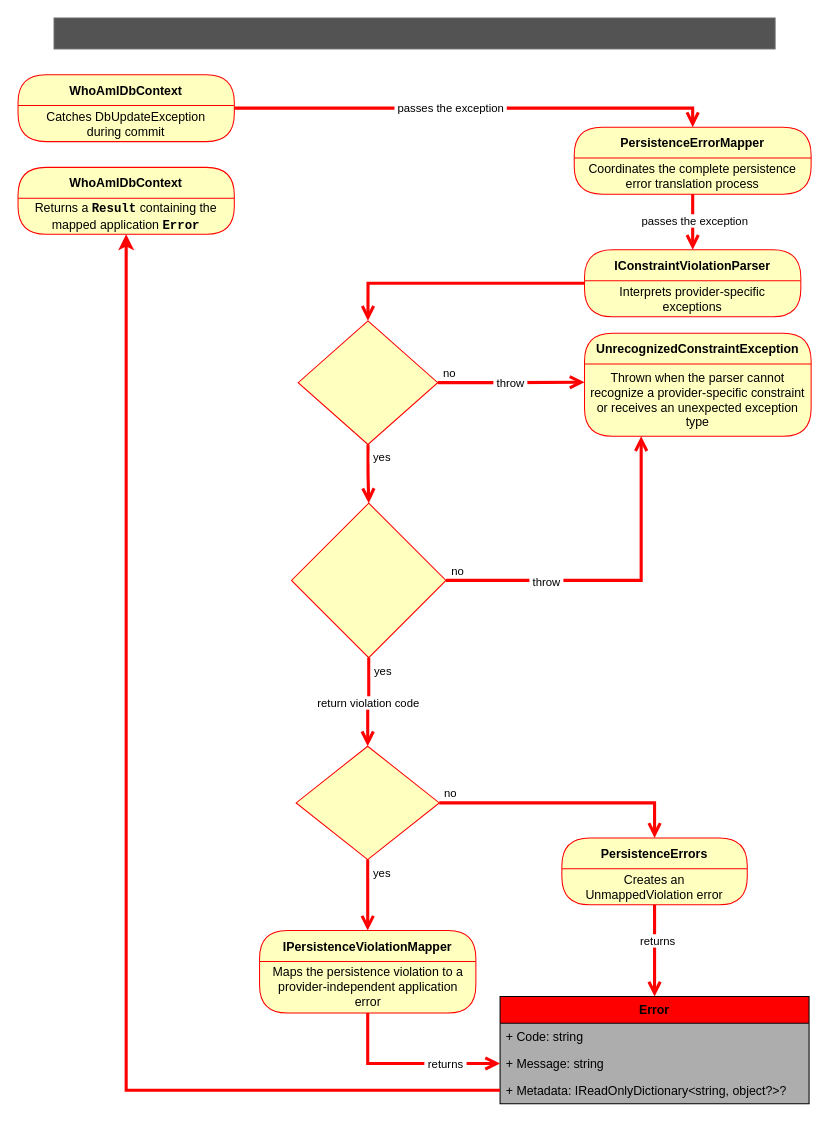
Some shapes in this 829 by 1125 pixel diagram are drawn without their labels. Here are the shapes that lost their labels. From the top down, the centre of each, then its label:
[414,33]: Infrastructure - Persistence Error Pipeline
[367,382]: Is the exception provider-specific?
[368,580]: Does the error message contain a registered constraint signature?
[367,802]: Is there a registered violation mapper?
